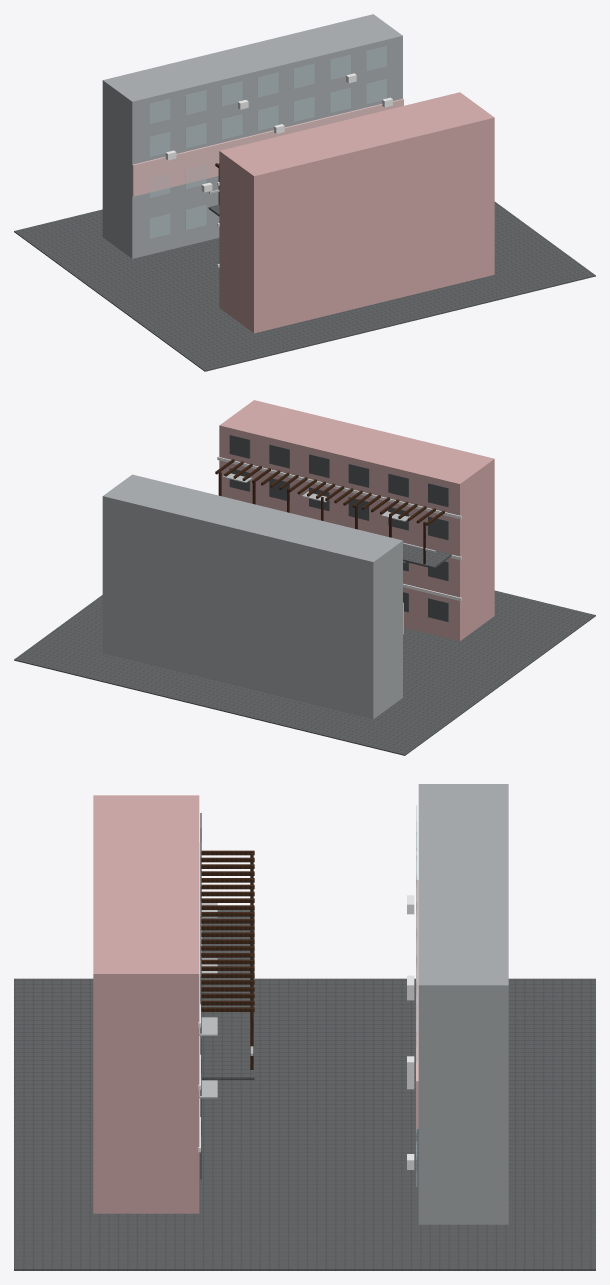
Rendered from exterior_block.glb.
3 renders of one model, top to bottom at view 1: azimuth 30°, elevation 25°; view 2: azimuth 150°, elevation 25°; view 3: azimuth 270°, elevation 25°, orthographic. The views are drawn at different scales.
Parts seen in each view (by area): view 1: Static_Exterior_Pink, Static_Exterior_Gray, Static_Floor_Gray, Cutaway_Window_Glass, Static_Exterior_Pink_Light, Static_White; view 2: Static_Exterior_Gray, Static_Floor_Gray, Static_Exterior_Pink, Cutaway_Display_Dark, Ceiling_Wood_Warm, Static_White, Static_Wood_Dark, Static_Metal_Gray; view 3: Static_Floor_Gray, Static_Exterior_Pink, Static_Exterior_Gray, Ceiling_Wood_Warm, Static_White, Static_Metal_Gray, Static_Exterior_Pink_Light, Cutaway_Display_Dark.
Boxes of the visible parts, box(x1,y1,x2,y2) form: Static_Exterior_Pink: box(219, 92, 494, 333); Static_Exterior_Gray: box(102, 14, 402, 258); Static_Floor_Gray: box(14, 201, 595, 371); Cutaway_Window_Glass: box(149, 46, 386, 238); Static_Exterior_Pink_Light: box(132, 99, 403, 196); Static_White: box(165, 73, 392, 267); Static_Exterior_Gray: box(102, 474, 402, 719); Static_Floor_Gray: box(14, 545, 595, 755); Static_Exterior_Pink: box(219, 400, 494, 641); Cutaway_Display_Dark: box(229, 434, 448, 621); Ceiling_Wood_Warm: box(215, 459, 444, 525); Static_White: box(217, 456, 461, 600); Static_Wood_Dark: box(218, 472, 425, 564); Static_Metal_Gray: box(222, 473, 435, 562); Static_Floor_Gray: box(14, 910, 595, 1270); Static_Exterior_Pink: box(93, 795, 199, 1213); Static_Exterior_Gray: box(418, 784, 508, 1224); Ceiling_Wood_Warm: box(201, 850, 254, 1011); Static_White: box(198, 842, 414, 1169); Static_Metal_Gray: box(199, 903, 253, 1098); Static_Exterior_Pink_Light: box(416, 880, 418, 1128); Cutaway_Display_Dark: box(200, 813, 201, 1179).
Size of the model in its own units: 26 by 10.05 by 22.
Materials: 10 (3 with a texture image).
